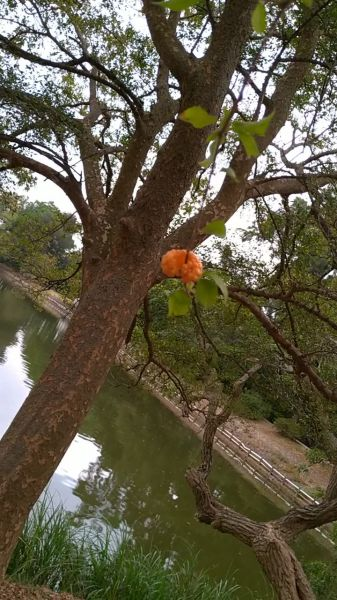eggs: (156, 245, 208, 288)
